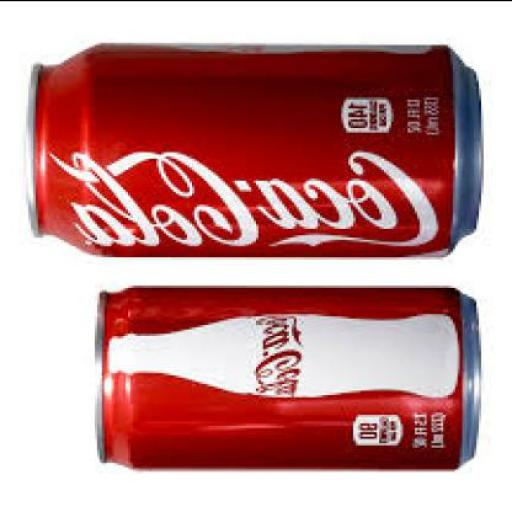metal: (24, 42, 482, 256), (92, 282, 479, 468)
